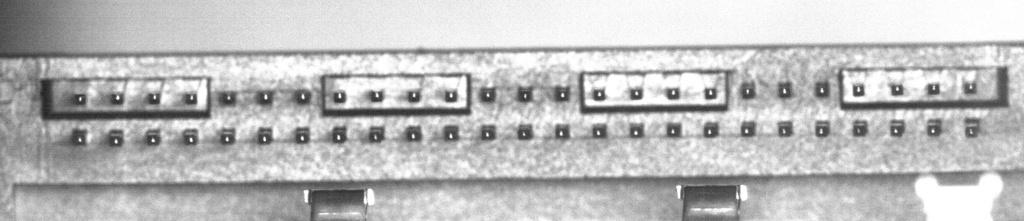pin_ok: (965, 117, 981, 137), (926, 118, 943, 136), (852, 119, 869, 136), (71, 128, 88, 145), (108, 129, 124, 147), (777, 120, 794, 136), (516, 124, 533, 140), (144, 129, 161, 145), (331, 126, 347, 143), (889, 119, 905, 136), (405, 125, 422, 141), (219, 128, 235, 144), (182, 129, 198, 145), (257, 128, 273, 144), (294, 127, 310, 143), (480, 86, 496, 102), (554, 85, 570, 101), (740, 82, 756, 98), (368, 126, 384, 142), (443, 125, 459, 141), (777, 82, 793, 98), (256, 90, 273, 105), (294, 89, 311, 104), (741, 120, 756, 136), (591, 123, 607, 138), (815, 120, 830, 136), (666, 122, 682, 137), (480, 125, 496, 140), (220, 90, 236, 105), (517, 86, 533, 101), (554, 124, 570, 139), (628, 123, 644, 138), (702, 123, 718, 138), (815, 81, 829, 98), (963, 79, 978, 94), (444, 89, 459, 103), (704, 86, 718, 100), (370, 89, 384, 102), (629, 87, 643, 100), (927, 82, 941, 95), (408, 89, 421, 102), (333, 90, 346, 103), (146, 92, 160, 104), (666, 87, 680, 99), (851, 84, 865, 96), (890, 83, 904, 95), (73, 93, 86, 105), (184, 92, 197, 104), (592, 88, 605, 100), (111, 92, 124, 103)
